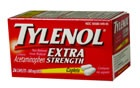grozi_72: (8, 10, 130, 80)
